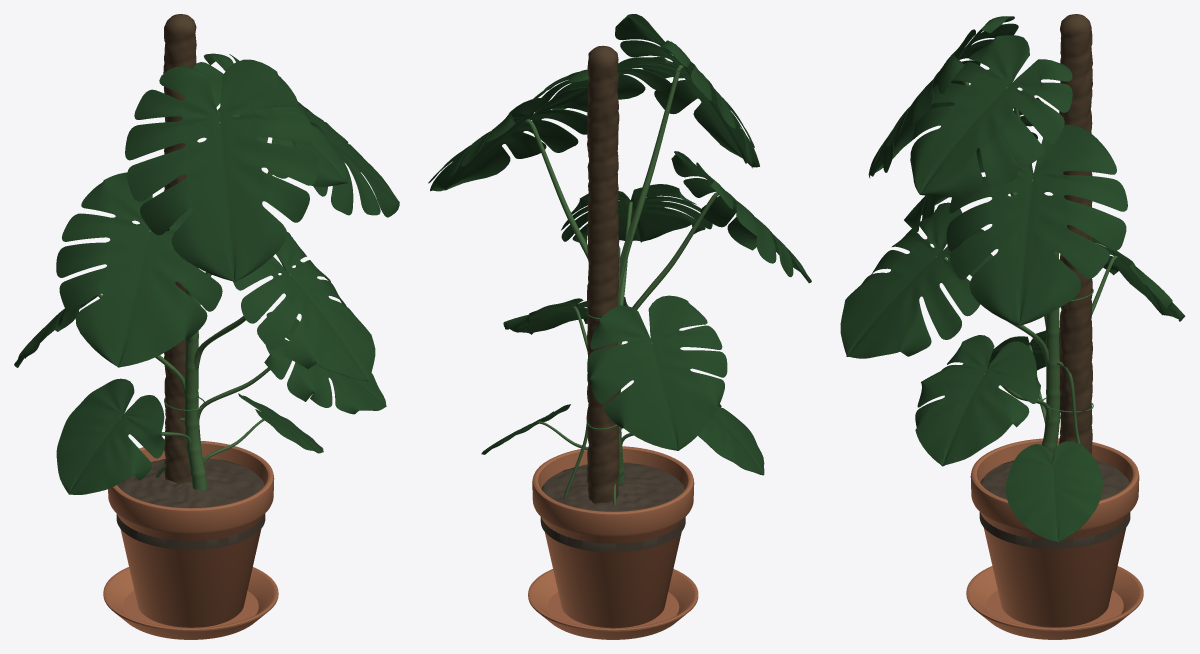
The model's file is monstera.glb.
3 renders of one model, left to right at view 1: azimuth 30°, elevation 25°; view 2: azimuth 150°, elevation 25°; view 3: azimuth 270°, elevation 25°, orthographic. The views are drawn at different scales.
Parts seen in each view (by area): view 1: plant_monstera_leaves, plant_monstera_pot, plant_monstera_soil, plant_monstera_pole, plant_monstera_saucer, plant_monstera_stems; view 2: plant_monstera_leaves, plant_monstera_pot, plant_monstera_pole, plant_monstera_soil, plant_monstera_stems, plant_monstera_saucer; view 3: plant_monstera_leaves, plant_monstera_pot, plant_monstera_pole, plant_monstera_saucer, plant_monstera_stems, plant_monstera_soil.
Boxes of the visible parts, bbox=[...] form: plant_monstera_leaves: bbox=[14, 53, 399, 494]; plant_monstera_pot: bbox=[108, 441, 274, 627]; plant_monstera_soil: bbox=[116, 458, 265, 549]; plant_monstera_pole: bbox=[163, 14, 197, 483]; plant_monstera_saucer: bbox=[103, 567, 278, 639]; plant_monstera_stems: bbox=[97, 122, 290, 490]; plant_monstera_leaves: bbox=[428, 14, 811, 475]; plant_monstera_pot: bbox=[532, 446, 694, 628]; plant_monstera_pole: bbox=[586, 45, 619, 503]; plant_monstera_soil: bbox=[540, 462, 685, 552]; plant_monstera_stems: bbox=[525, 65, 718, 504]; plant_monstera_saucer: bbox=[528, 569, 698, 639]; plant_monstera_leaves: bbox=[840, 16, 1185, 542]; plant_monstera_pot: bbox=[970, 438, 1139, 627]; plant_monstera_pole: bbox=[1059, 14, 1092, 454]; plant_monstera_saucer: bbox=[966, 566, 1143, 639]; plant_monstera_stems: bbox=[935, 81, 1118, 472]; plant_monstera_soil: bbox=[979, 457, 1130, 548].
Size of the model in its own units: 0.7317 by 1.18 by 0.6224.
